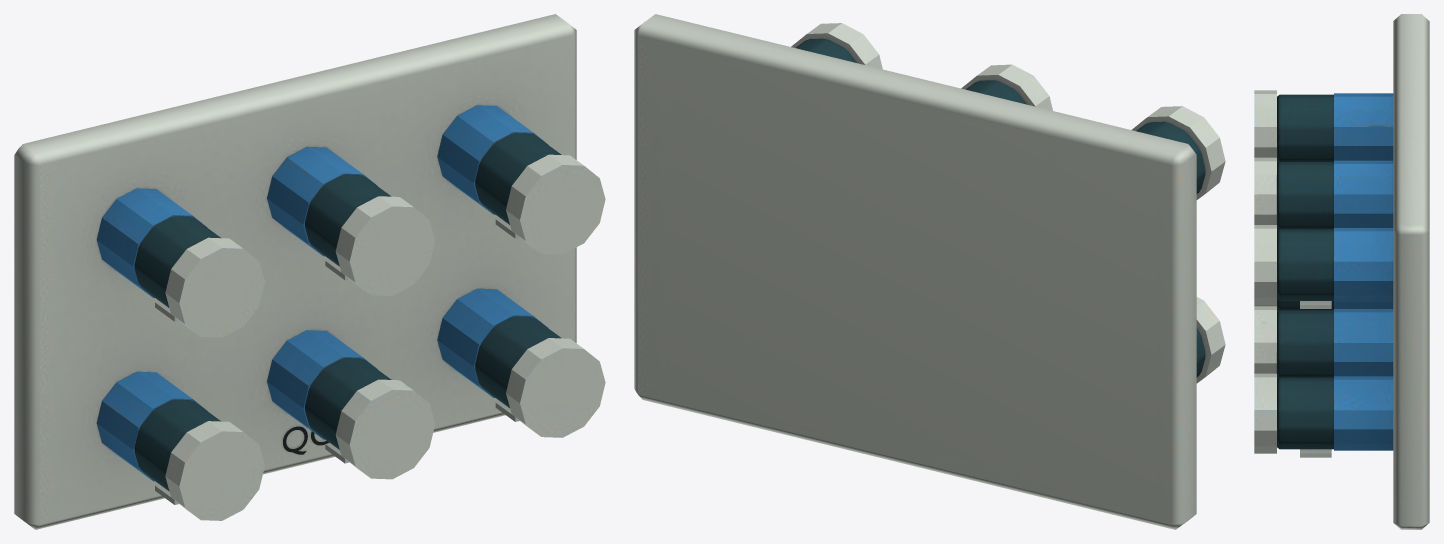
File: sample_vials.obj
The picture shows the model from 3 angles, left to right: view 1: azimuth 30°, elevation 25°; view 2: azimuth 150°, elevation 25°; view 3: azimuth 270°, elevation 25°; orthographic projection. The views are drawn at different scales.
Visible parts, largest first — view 1: sample_vials; view 2: sample_vials; view 3: sample_vials.
Boxes of the visible parts, left/top/right/bottom form: sample_vials: left=14, top=14, right=605, bottom=529; sample_vials: left=634, top=14, right=1225, bottom=529; sample_vials: left=1254, top=14, right=1429, bottom=529.
Size of the model in its own units: 0.113 by 0.074 by 0.0385.
Materials: 2 (2 with a texture image).
